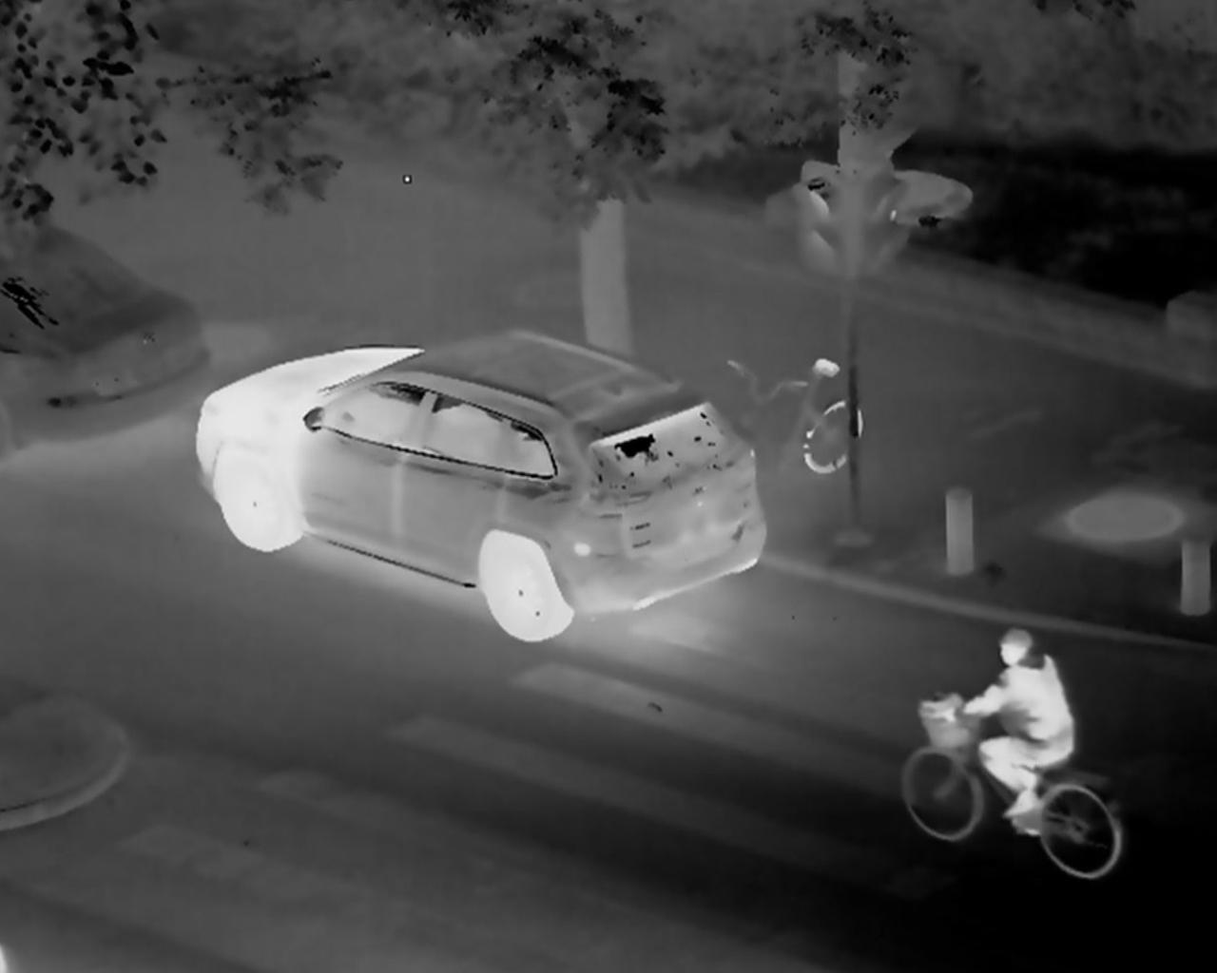person: (956, 624, 1078, 836)
